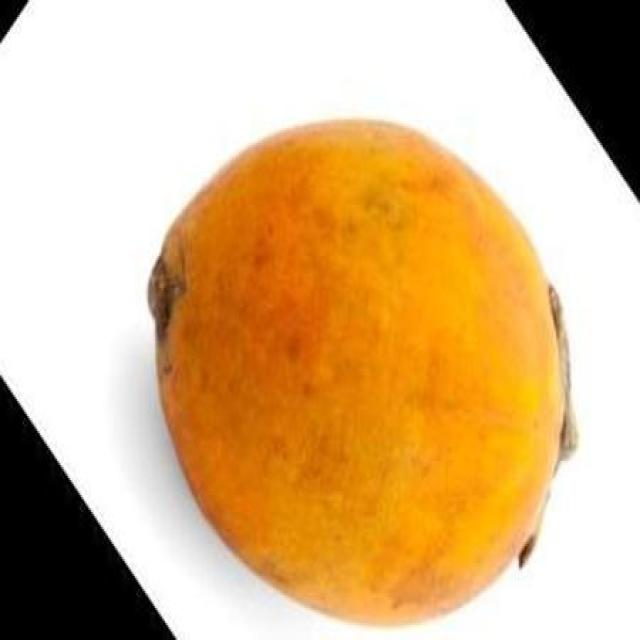good: (145, 119, 577, 634)
